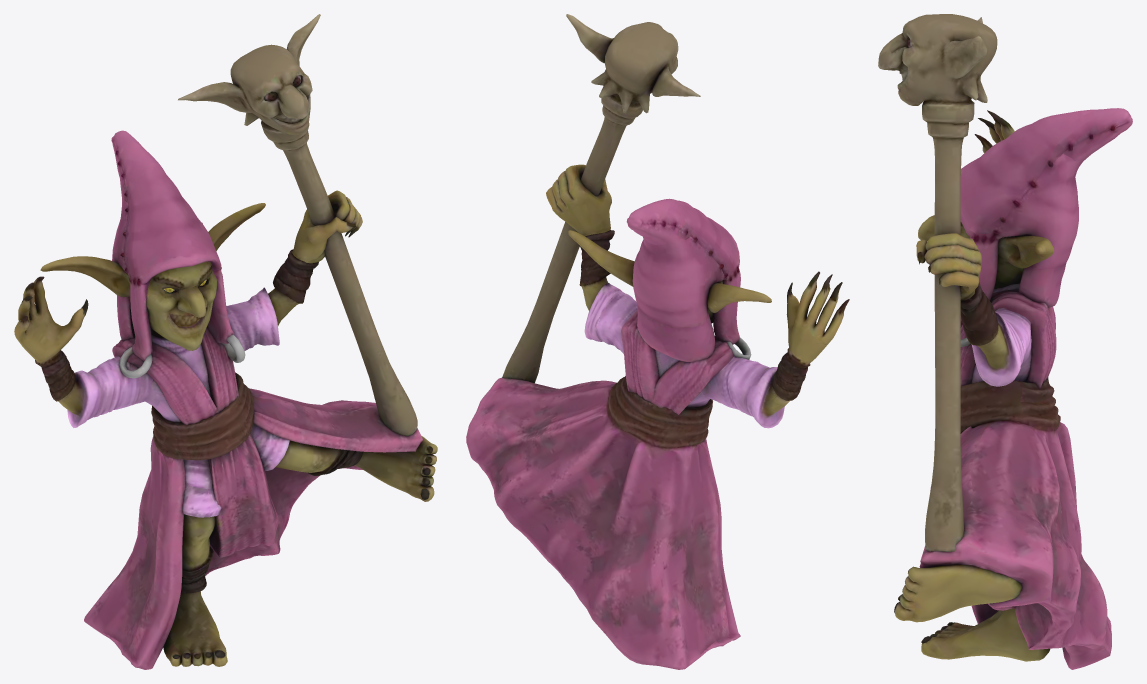
File: MZ4250 - Nilbog1.glb
The picture shows the model from 3 angles, left to right: view 1: azimuth 30°, elevation 25°; view 2: azimuth 150°, elevation 25°; view 3: azimuth 270°, elevation 25°; orthographic projection. The views are drawn at different scales.
Visible parts, largest first — view 1: Torus.002; view 2: Torus.002; view 3: Torus.002.
Boxes of the visible parts, x1,y1,x2,y2 form: Torus.002: (14, 14, 437, 669); Torus.002: (466, 14, 849, 669); Torus.002: (878, 14, 1132, 669).
Size of the model in its own units: 59.85 by 91.8 by 30.35.
Materials: 1 (1 with a texture image).
